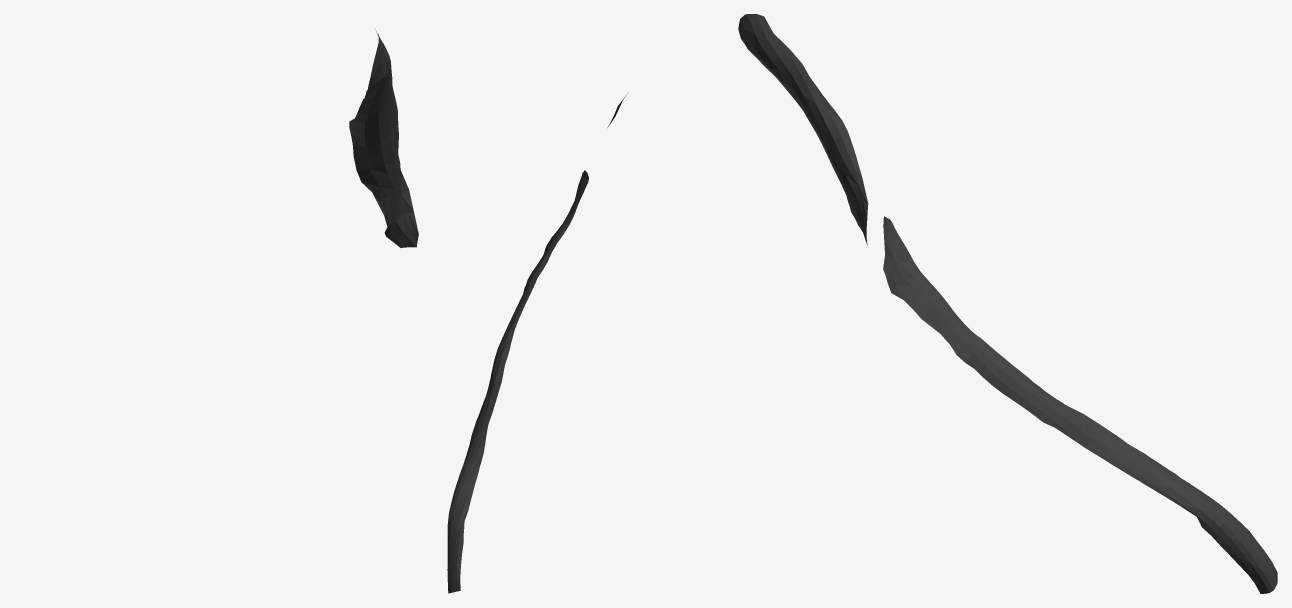
Rendered from eq_dist_limb_Palmar_Vein.glb.
The picture shows the model from 3 angles, left to right: view 1: azimuth 30°, elevation 25°; view 2: azimuth 150°, elevation 25°; view 3: azimuth 270°, elevation 25°; orthographic projection. The views are drawn at different scales.
Visible parts, largest first — view 1: eq_dist_limb_Palmar_Vein; view 2: eq_dist_limb_Palmar_Vein; view 3: eq_dist_limb_Palmar_Vein.
Part boxes in pixels (<box>): eq_dist_limb_Palmar_Vein: <box>349,31,418,247</box>; eq_dist_limb_Palmar_Vein: <box>447,95,626,593</box>; eq_dist_limb_Palmar_Vein: <box>738,14,1277,593</box>.
Size of the model in its own units: 0.00245 by 0.0108 by 0.00947.
1 material, 1 textured.
